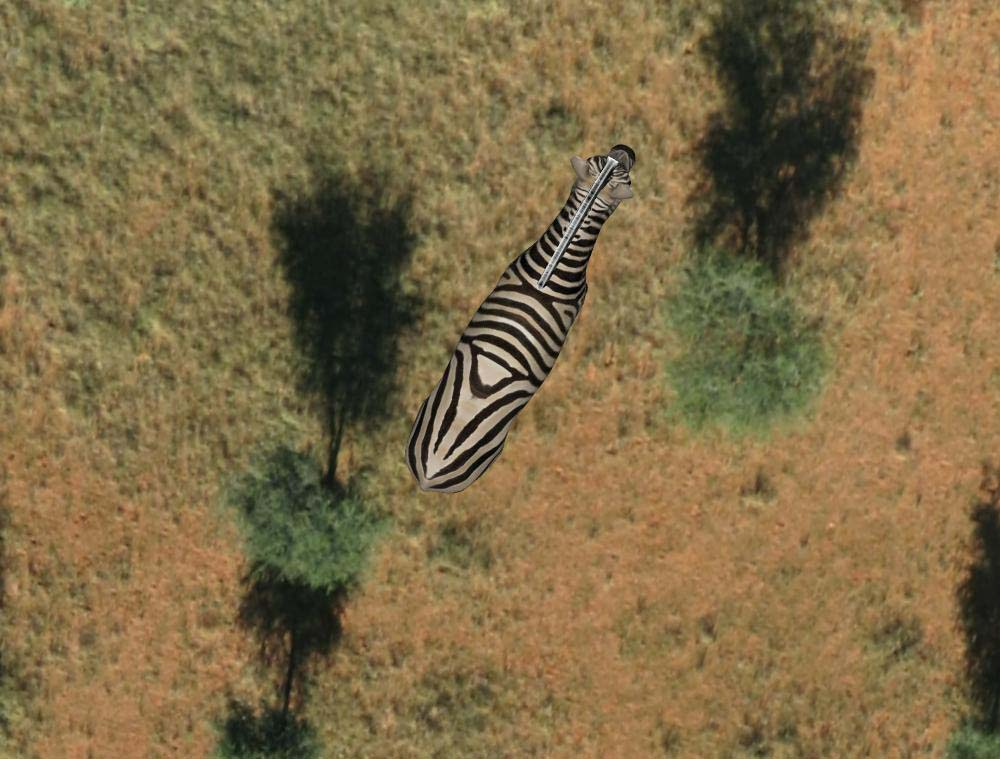zebra: (407, 137, 639, 494)
